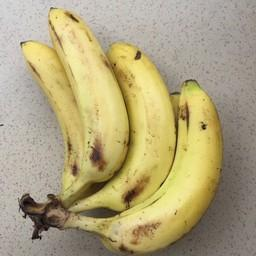Banana Ripe: (69, 60, 222, 256), (42, 5, 130, 216), (103, 15, 182, 246), (12, 28, 90, 212)
